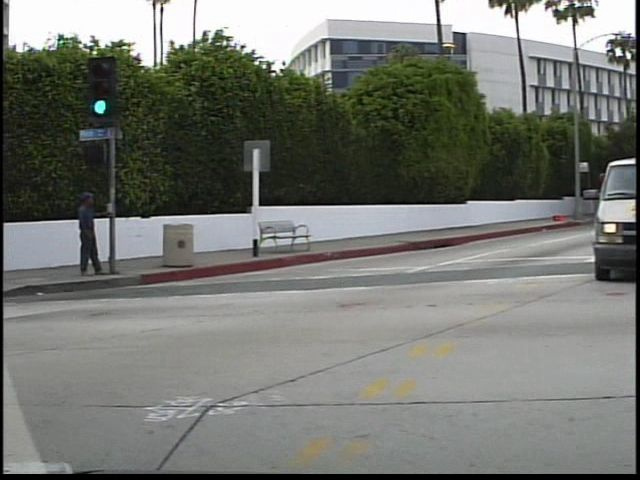person: (69, 184, 111, 279)
